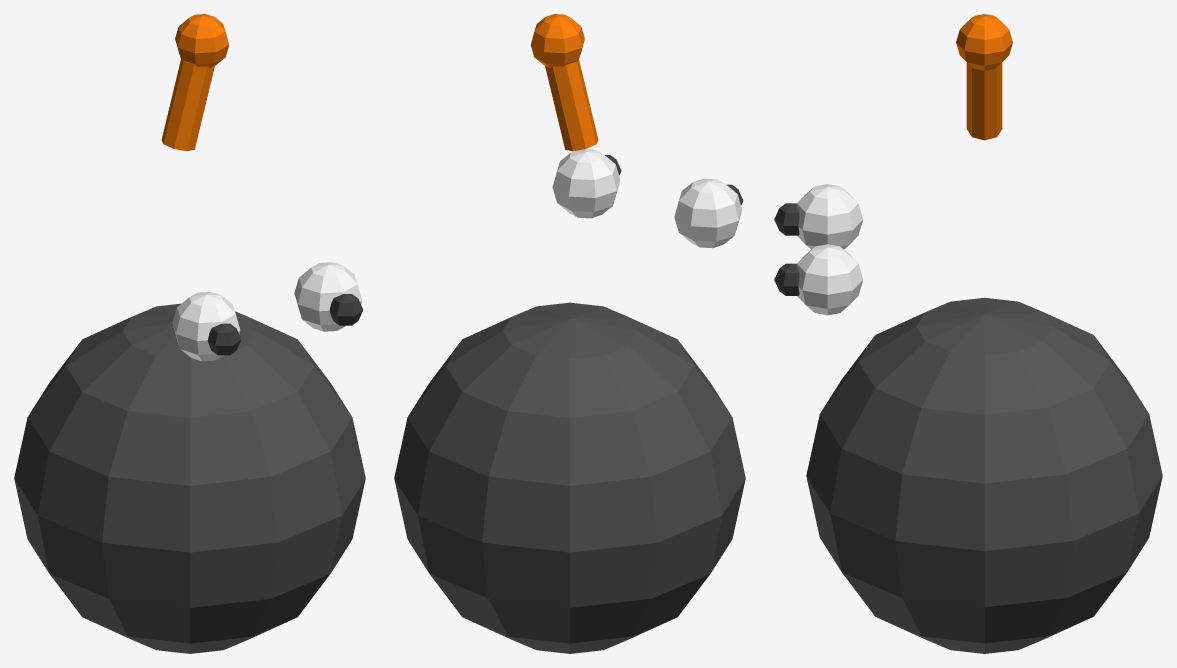
Rendered from bomber.glb.
The picture shows the model from 3 angles, left to right: view 1: azimuth 30°, elevation 25°; view 2: azimuth 150°, elevation 25°; view 3: azimuth 270°, elevation 25°; orthographic projection.
Visible parts, largest first — view 1: BomberBody, Fuse, Eye_R, Eye_L, Spark, Pupil_L, Pupil_R; view 2: BomberBody, Eye_L, Eye_R, Fuse, Spark; view 3: BomberBody, Eye_R, Eye_L, Fuse, Spark, Pupil_L, Pupil_R.
Boxes of the visible parts, x1,y1,x2,y2 form: BomberBody: [14, 303, 365, 653]; Fuse: [161, 60, 214, 151]; Eye_R: [294, 262, 362, 331]; Eye_L: [172, 292, 240, 361]; Spark: [175, 14, 229, 67]; Pupil_L: [207, 323, 241, 355]; Pupil_R: [329, 294, 363, 325]; BomberBody: [394, 302, 745, 653]; Eye_L: [674, 178, 742, 248]; Eye_R: [552, 149, 620, 218]; Fuse: [545, 60, 598, 151]; Spark: [530, 14, 584, 67]; BomberBody: [806, 297, 1162, 653]; Eye_R: [796, 244, 863, 315]; Eye_L: [796, 184, 863, 249]; Fuse: [966, 62, 1002, 140]; Spark: [956, 14, 1012, 70]; Pupil_L: [774, 203, 799, 235]; Pupil_R: [774, 263, 799, 295].
Bounding box in the file's own units: 0.5 × 0.97 × 0.545.
